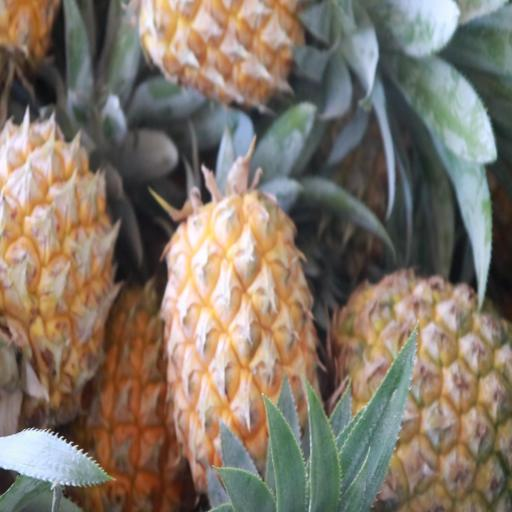Pineapple - v8 v1: (167, 194, 318, 502), (331, 276, 512, 510), (0, 118, 121, 395), (67, 281, 187, 511)
